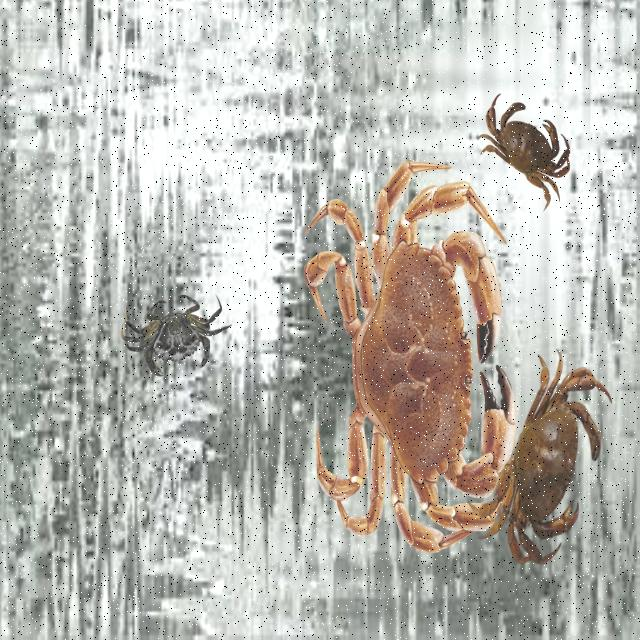European_Green_Crab: (116, 273, 236, 396)
